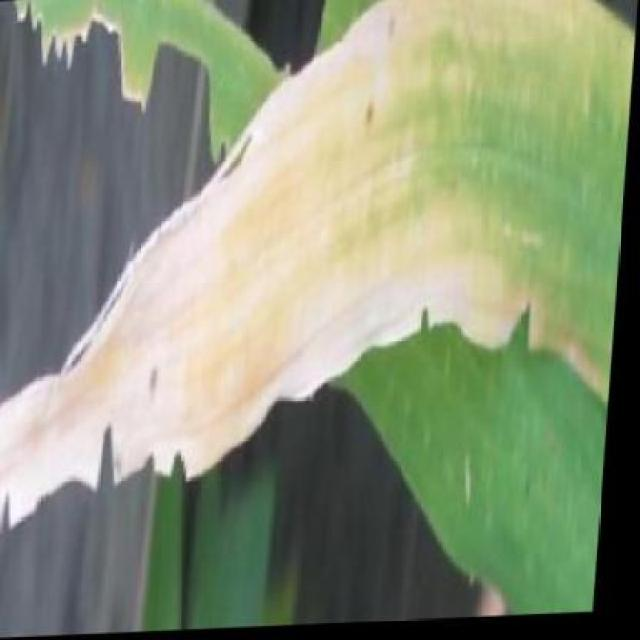Brown_Spot: (300, 18, 638, 362)
